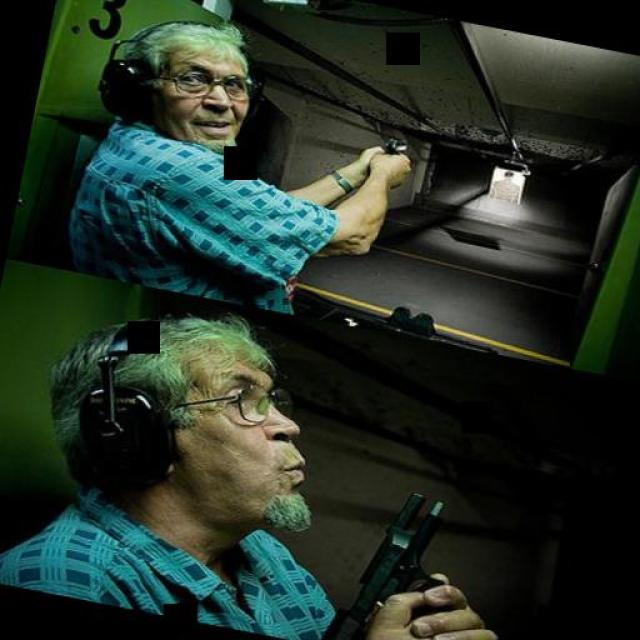gun: (316, 475, 469, 640), (374, 132, 411, 154)
